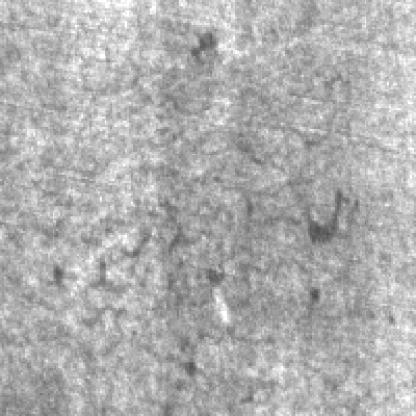crazing: (4, 224, 148, 330), (185, 87, 339, 175)
